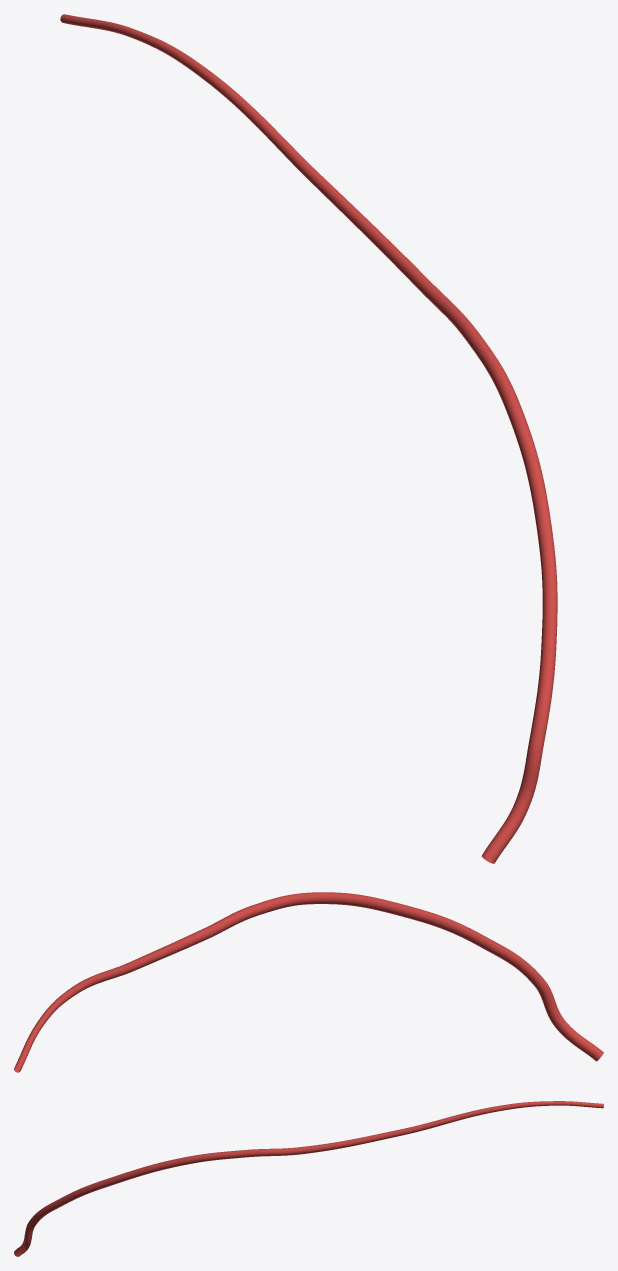
3 renders of one model, top to bottom at view 1: azimuth 30°, elevation 25°; view 2: azimuth 150°, elevation 25°; view 3: azimuth 270°, elevation 25°, orthographic. The views are drawn at different scales.
Visible parts, largest first — view 1: 右侧颈横动脉浅支; view 2: 右侧颈横动脉浅支; view 3: 右侧颈横动脉浅支.
Boxes of the visible parts, x1,y1,x2,y2 form: 右侧颈横动脉浅支: [60, 14, 557, 863]; 右侧颈横动脉浅支: [14, 892, 603, 1072]; 右侧颈横动脉浅支: [14, 1101, 603, 1256].
Bounding box in the file's own units: 0.0434 × 0.0719 × 0.1922.
